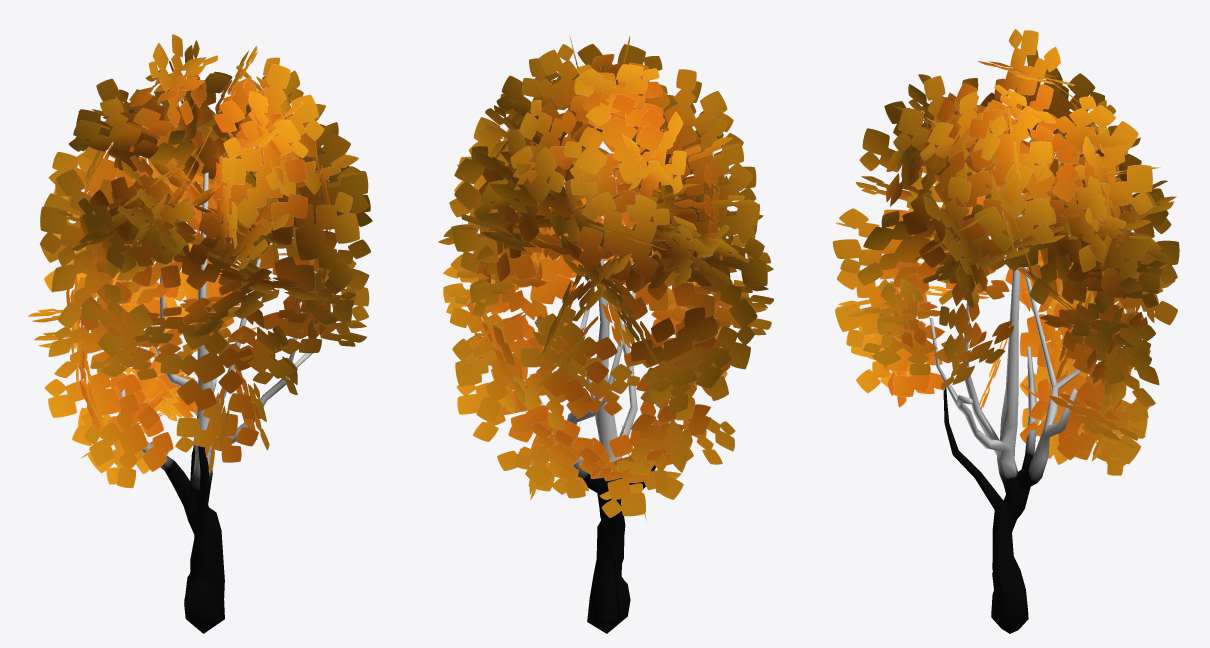
The model's file is model_tree_02c.fbx.
The picture shows the model from 3 angles, left to right: view 1: azimuth 30°, elevation 25°; view 2: azimuth 150°, elevation 25°; view 3: azimuth 270°, elevation 25°; orthographic projection.
Parts seen in each view (by area): view 1: TSP_Tree_02C_Crown, TSP_Tree_02C; view 2: TSP_Tree_02C_Crown, TSP_Tree_02C; view 3: TSP_Tree_02C_Crown, TSP_Tree_02C.
Part boxes in pixels (x1,y1,x2,y2): TSP_Tree_02C_Crown: (28, 34, 372, 488); TSP_Tree_02C: (120, 172, 312, 633); TSP_Tree_02C_Crown: (438, 36, 774, 520); TSP_Tree_02C: (534, 258, 674, 633); TSP_Tree_02C_Crown: (832, 29, 1179, 475); TSP_Tree_02C: (929, 193, 1081, 633).
Size of the model in its own units: 4.35 by 7.51 by 4.32.
